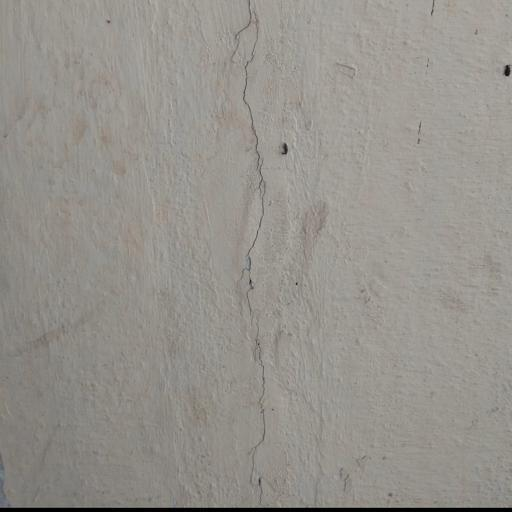minor_crack: (216, 0, 295, 512)
